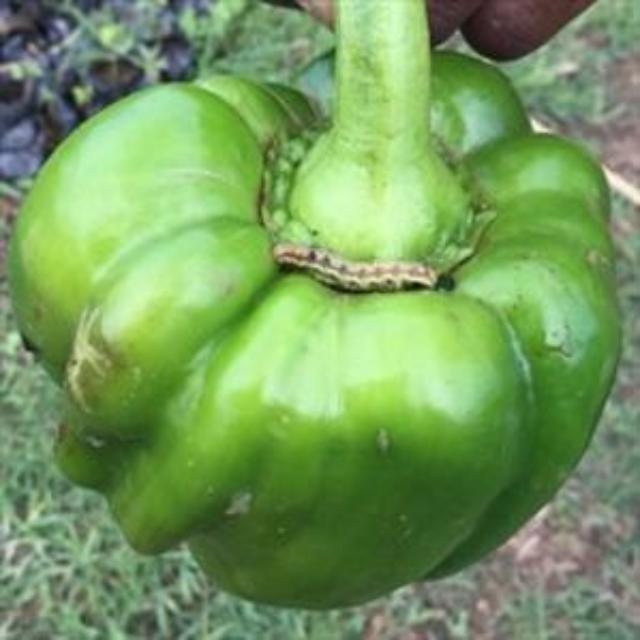Cotton bollworm: (260, 229, 450, 333)
